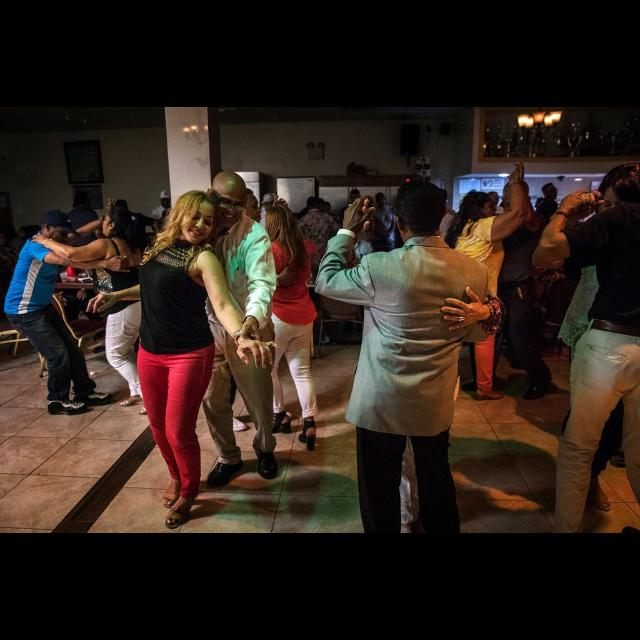head: (395, 181, 449, 247), (207, 171, 249, 233), (175, 190, 217, 248), (402, 198, 442, 236), (503, 181, 531, 223), (101, 207, 135, 239), (465, 192, 499, 224), (234, 189, 264, 225), (264, 208, 296, 240), (42, 214, 72, 248)
person: (84, 187, 284, 533), (156, 168, 280, 494), (31, 196, 165, 418), (438, 159, 556, 403), (2, 198, 132, 418), (221, 203, 323, 455), (207, 186, 303, 434), (431, 165, 529, 403)
